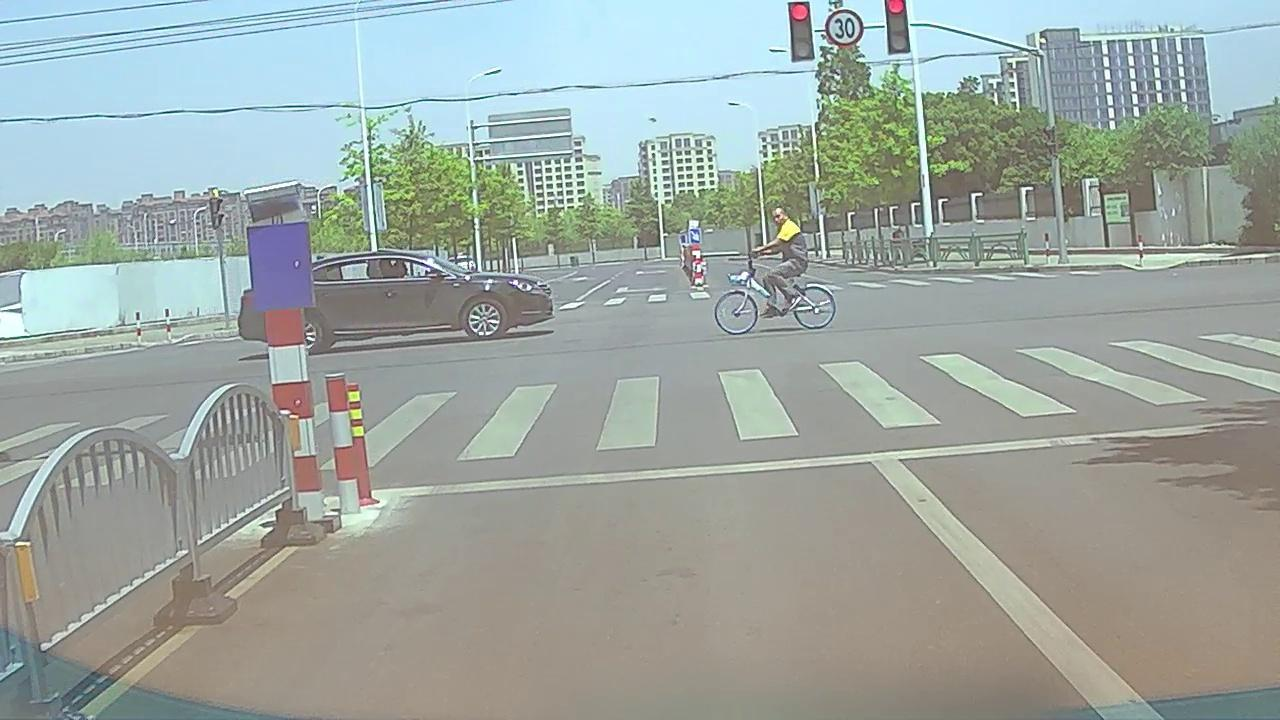traffic_light: (788, 4, 815, 61), (886, 1, 910, 52)
